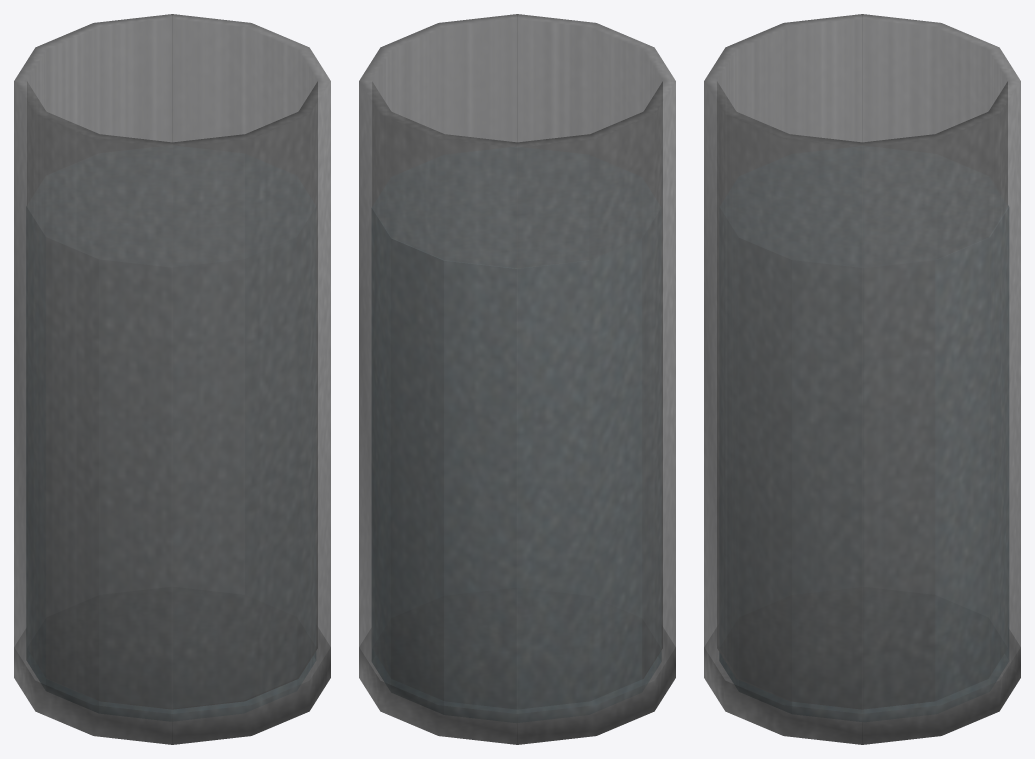
File: glass_of_water_02.glb
The picture shows the model from 3 angles, left to right: view 1: azimuth 30°, elevation 25°; view 2: azimuth 150°, elevation 25°; view 3: azimuth 270°, elevation 25°; orthographic projection.
Visible parts, largest first — view 1: glass of water.02; view 2: glass of water.02; view 3: glass of water.02.
Boxes of the visible parts, bbox=[...] form: glass of water.02: bbox=[14, 14, 330, 744]; glass of water.02: bbox=[359, 14, 675, 744]; glass of water.02: bbox=[704, 14, 1020, 744].
Bounding box in the file's own units: 0.0989 × 0.2058 × 0.0989.
Materials: 3 (3 with a texture image).
